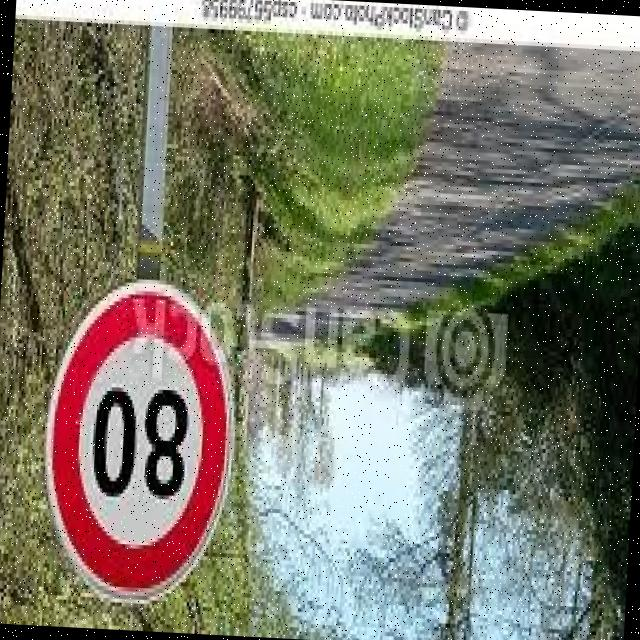speed_limit_80: (30, 275, 247, 620)
